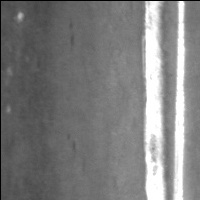inclusion: (65, 20, 78, 49)
scratches: (140, 1, 168, 200), (172, 1, 187, 200)
